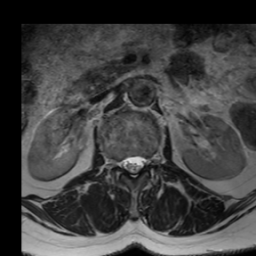CCS_normal: (130, 149, 138, 183)
LFS_normal: (146, 148, 153, 173)
LLS_normal: (138, 149, 146, 174)
RFS_stenosis: (114, 150, 121, 174)
RLS_normal: (121, 150, 130, 176)
